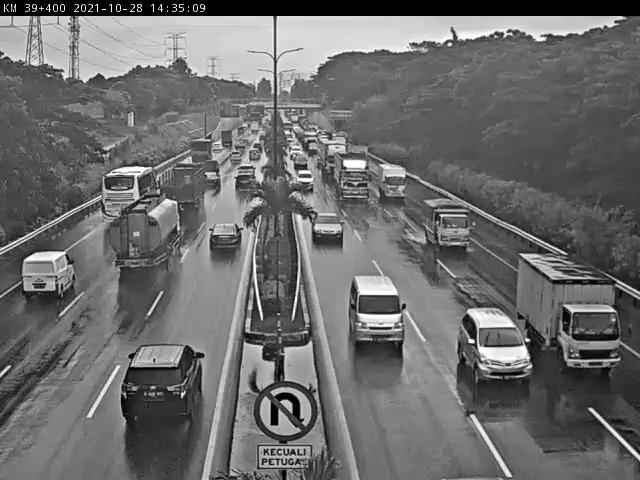big bus: (94, 157, 161, 223)
big truck: (96, 191, 193, 278), (153, 152, 216, 225), (324, 148, 377, 200)
car: (94, 332, 219, 445), (450, 302, 532, 392), (346, 269, 410, 350), (15, 238, 85, 311), (206, 218, 243, 266), (307, 209, 348, 250), (228, 174, 260, 200), (293, 165, 322, 192), (288, 151, 312, 176), (234, 161, 260, 183)
small truck: (515, 246, 617, 371), (419, 191, 477, 261), (376, 158, 412, 205)
